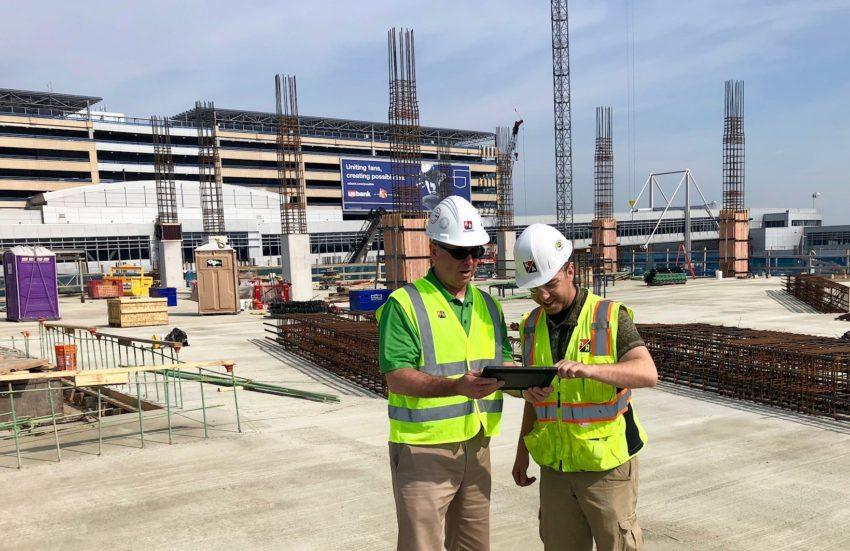helmet: (518, 226, 576, 291), (428, 200, 494, 251)
